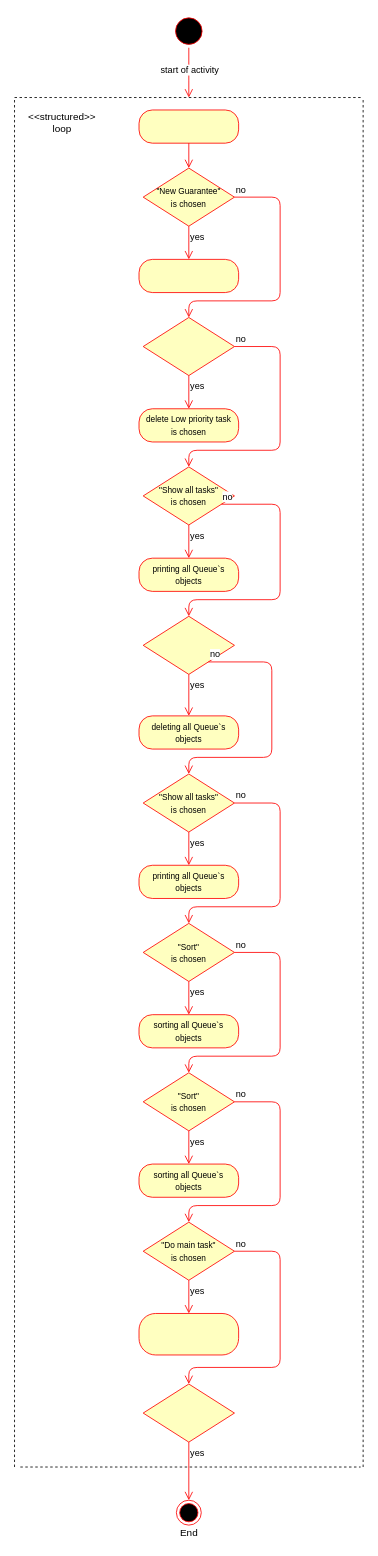
Some shapes in this 378 by 1556 pixel diagram are drawn without their labels. Here are the shapes that lost their labels. From the top down, the centre of each, then its label:
(x=188, y=126): read option
(x=188, y=276): creating Guarantee`s object
(x=188, y=346): "Delete low priority task" is chosen
(x=188, y=644): "Remove all tasks" is chosen
(x=188, y=1334): processing task of object that is on the top of the queue
(x=188, y=1412): "Exit" is chosen
